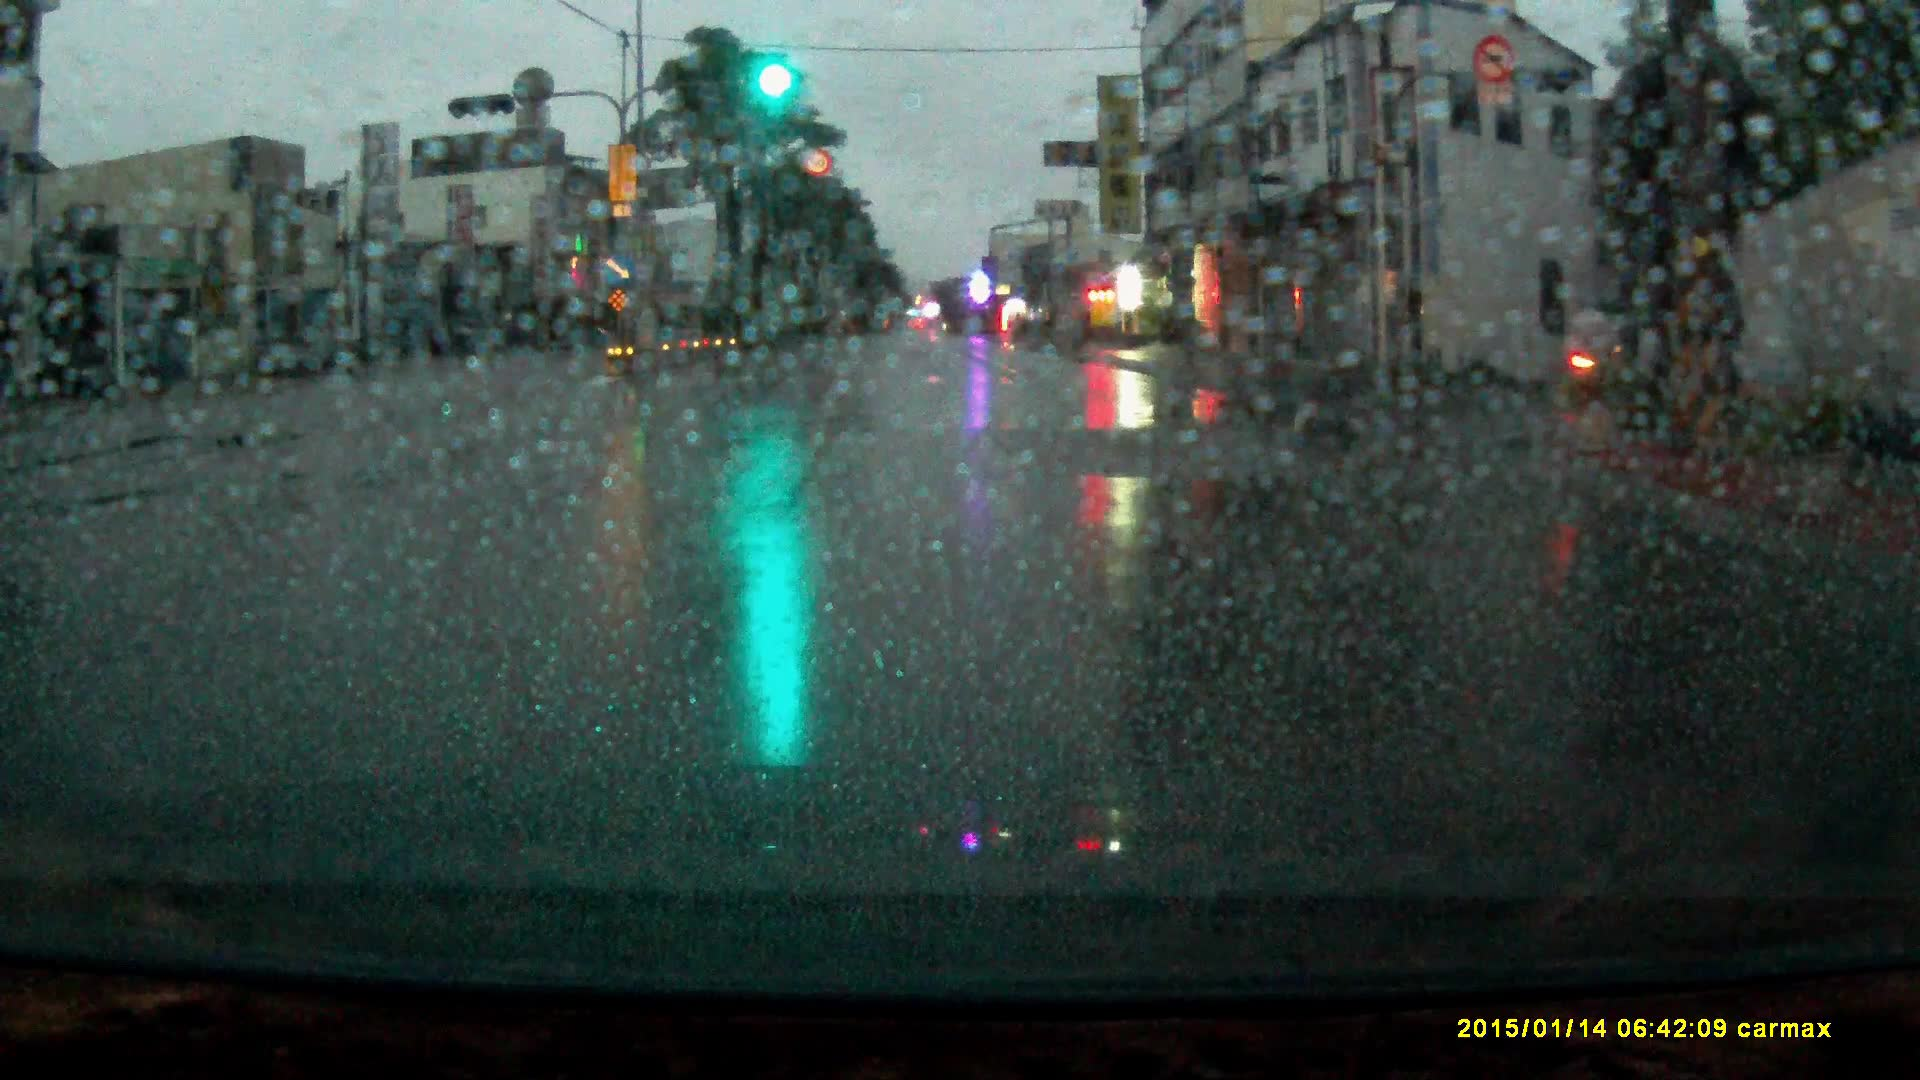rider: (1560, 288, 1631, 400)
